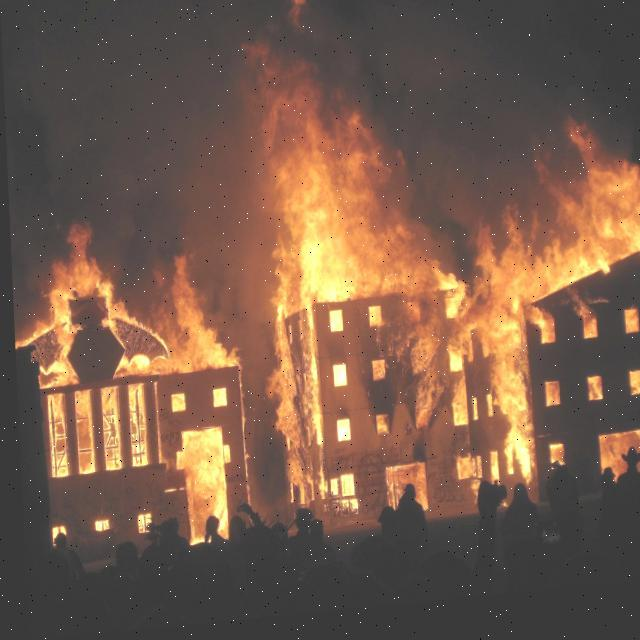Fire: (240, 84, 639, 538), (8, 187, 258, 564)
